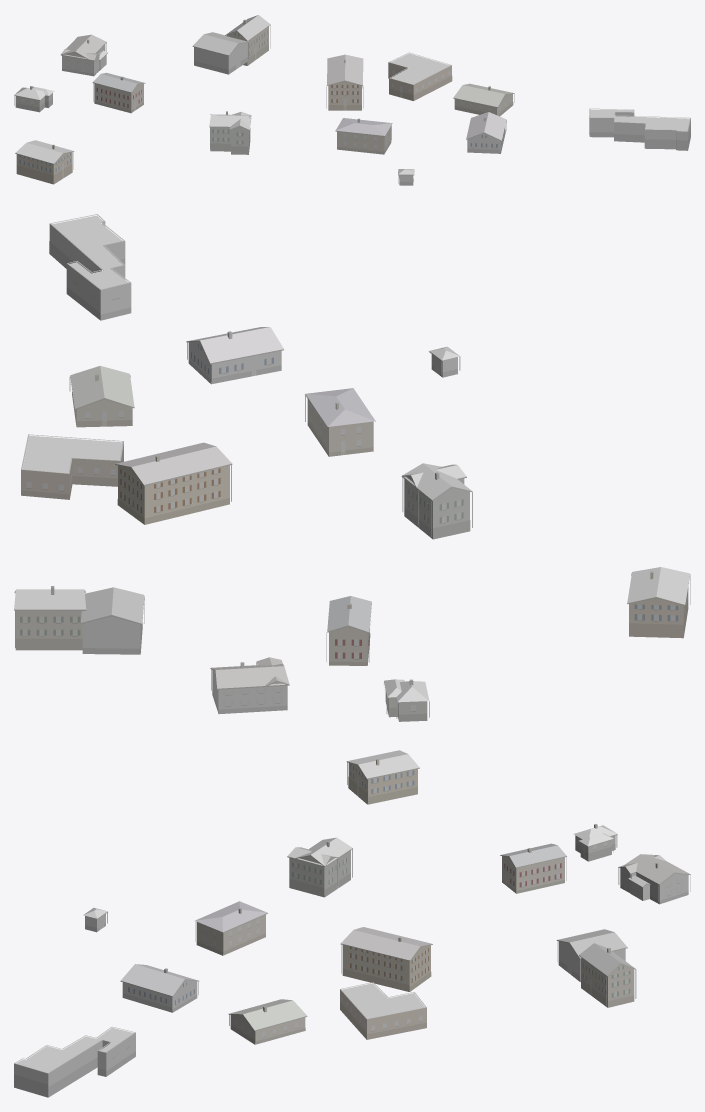
3 renders of one model, top to bottom at view 1: azimuth 30°, elevation 25°; view 2: azimuth 150°, elevation 25°; view 3: azimuth 270°, elevation 25°, orthographic. The views are drawn at different scales.
Parts seen in each view (by area): view 1: bld; view 2: bld; view 3: bld.
Part boxes in pixels (bbox=[...]): bld: bbox=[14, 15, 690, 185]; bld: bbox=[14, 214, 690, 721]; bld: bbox=[14, 750, 690, 1097].
Size of the model in its own units: 191 by 19.33 by 165.
